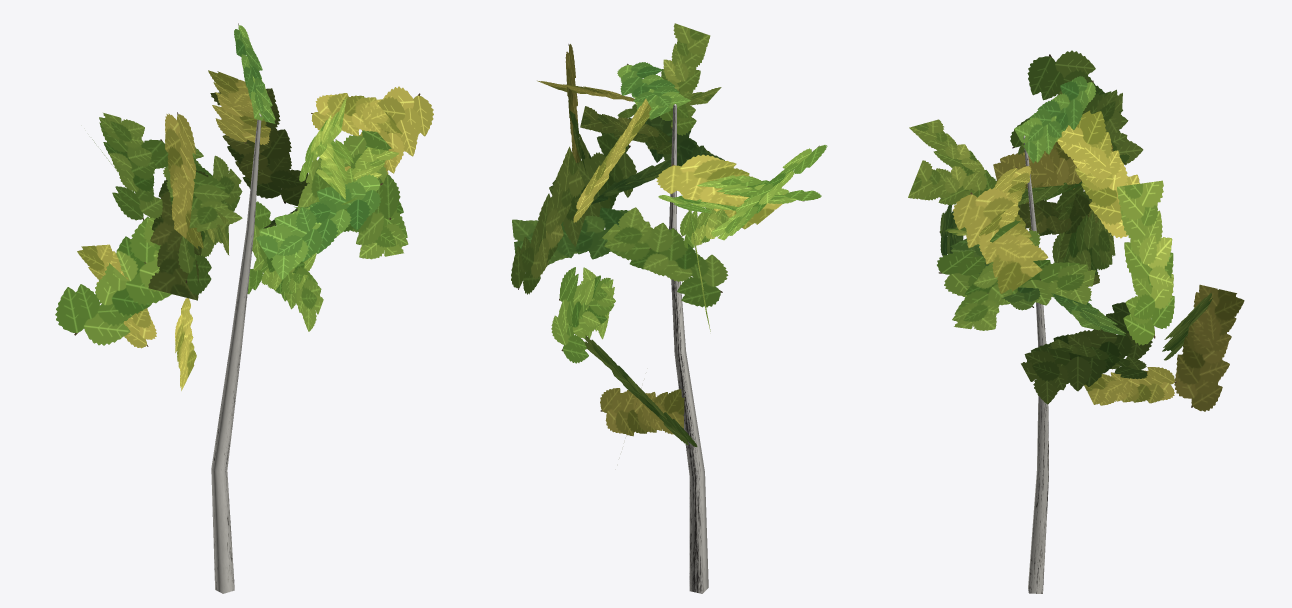
Rendered from hero_birch_a_lod2.obj.
3 views of the same model, side by side, from view 1: azimuth 30°, elevation 25°; view 2: azimuth 150°, elevation 25°; view 3: azimuth 270°, elevation 25° (orthographic).
Visible parts, largest first — view 1: hero_birch_a_lod2; view 2: hero_birch_a_lod2; view 3: hero_birch_a_lod2.
Boxes of the visible parts, x1=… form: hero_birch_a_lod2: x1=55, y1=23, x2=433, y2=593; hero_birch_a_lod2: x1=511, y1=23, x2=827, y2=593; hero_birch_a_lod2: x1=908, y1=50, x2=1244, y2=593.
Size of the model in its own units: 7.53 by 12.32 by 7.82.
2 materials, 2 textured.
